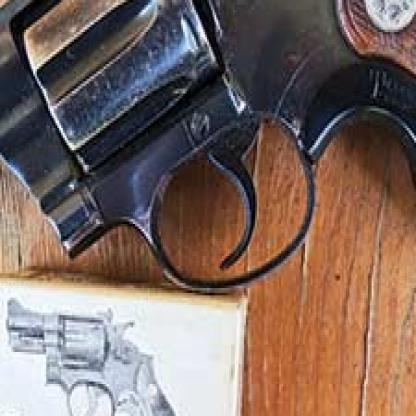gun: (0, 0, 415, 296), (6, 296, 196, 414)
